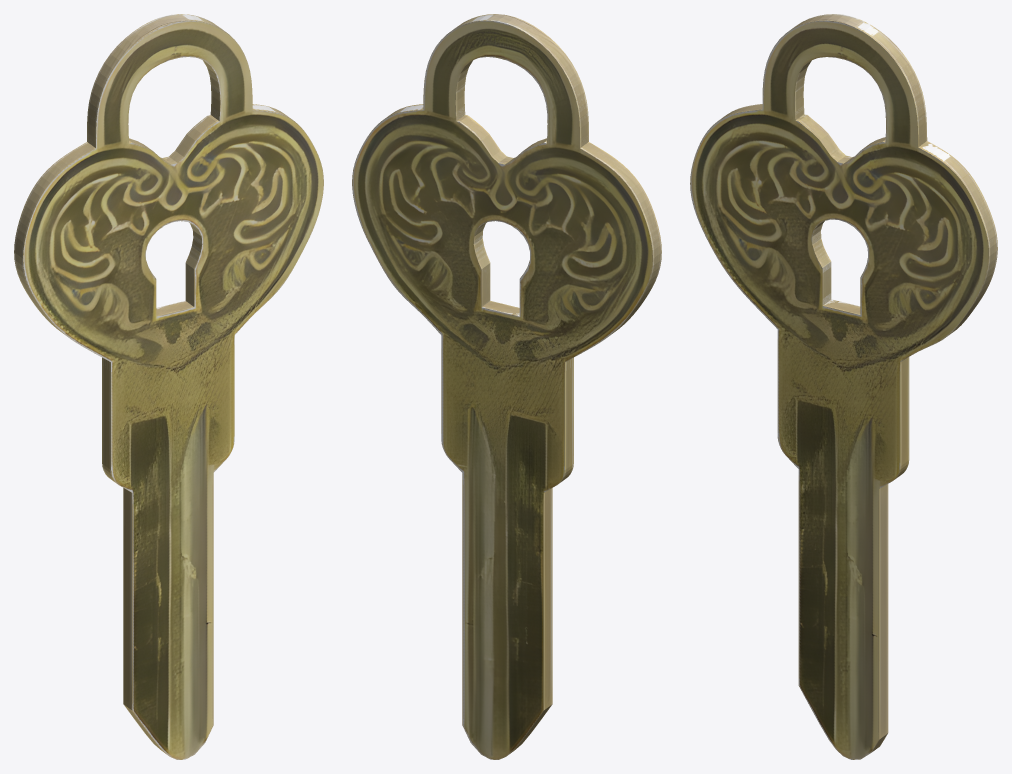
Rendered from vintage_ornate_heart-shaped_key.glb.
3 renders of one model, left to right at view 1: azimuth 30°, elevation 25°; view 2: azimuth 150°, elevation 25°; view 3: azimuth 330°, elevation 25°, orthographic.
Parts seen in each view (by area): view 1: model_0; view 2: model_0; view 3: model_0.
Part boxes in pixels (bbox=[...]): model_0: bbox=[14, 14, 323, 759]; model_0: bbox=[352, 14, 661, 759]; model_0: bbox=[690, 14, 997, 759].
Size of the model in its own units: 0.3899 by 0.9161 by 0.02.
Materials: 1 (1 with a texture image).
